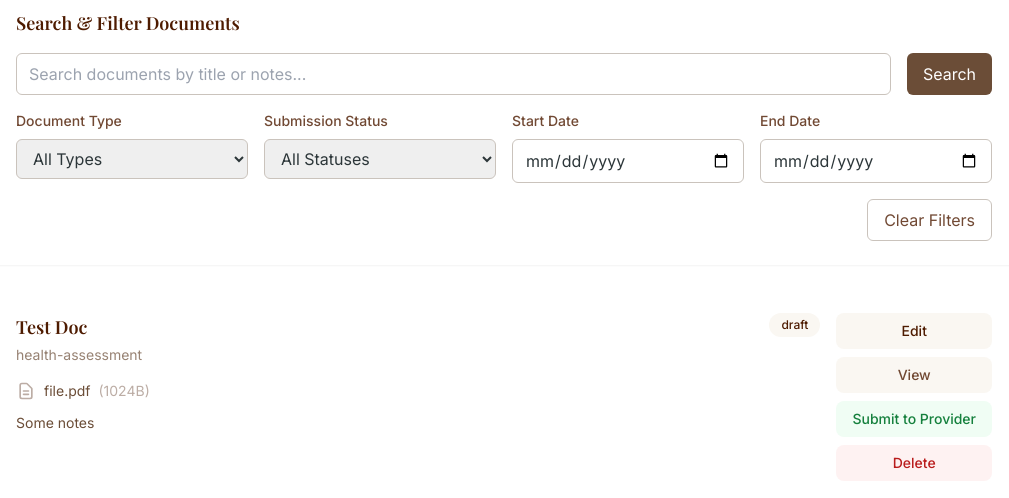
Test: DocumentsList – deep tests › search › searches documents and displays results
This screenshot has width=1009, height=498.
Check: the heading "Test Doc" is shown, box [16,315,87,339]
In the field with placeholder "Search documents by title or notes...": coordinates (453, 74) [16,53,891,95], type "query"
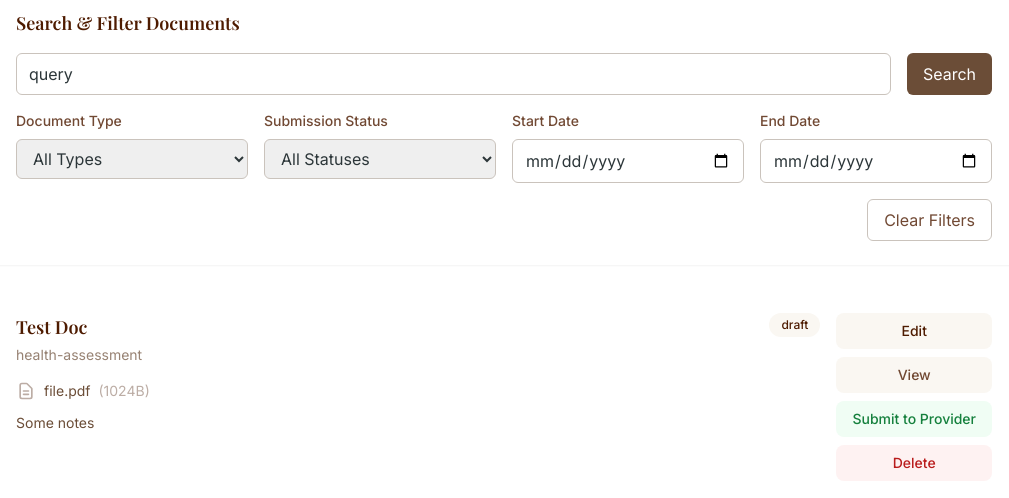
Click the button "Search": coordinates (949, 74) [907,53,992,95]
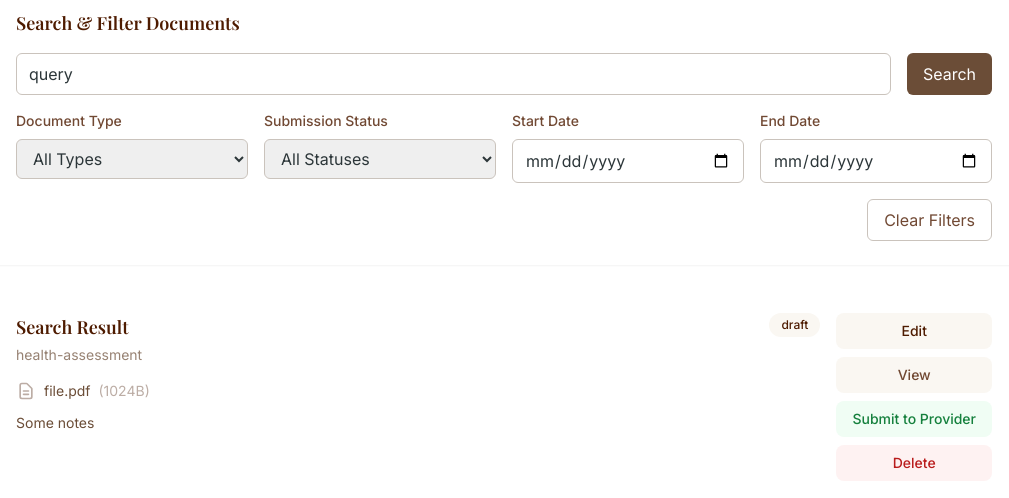
Check: the heading "Search Result" is shown, box [16,313,142,341]
